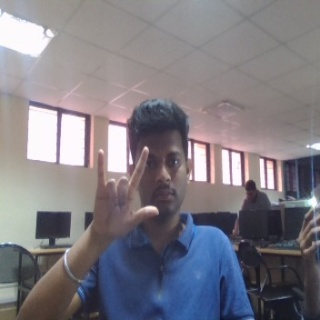I Love You: (87, 145, 161, 241)
